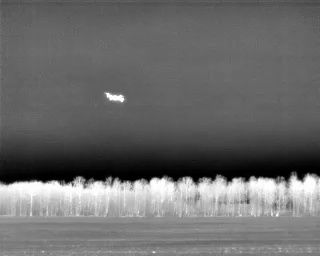DRONE: (101, 88, 129, 107)
